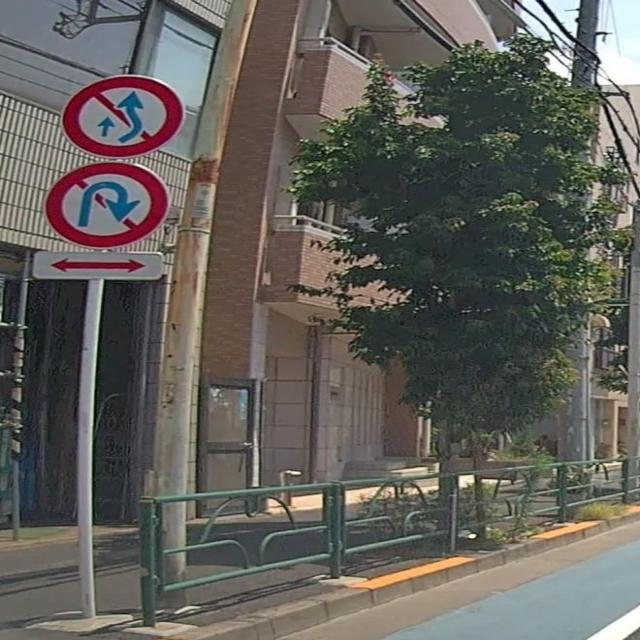maple: (359, 32, 640, 542)
